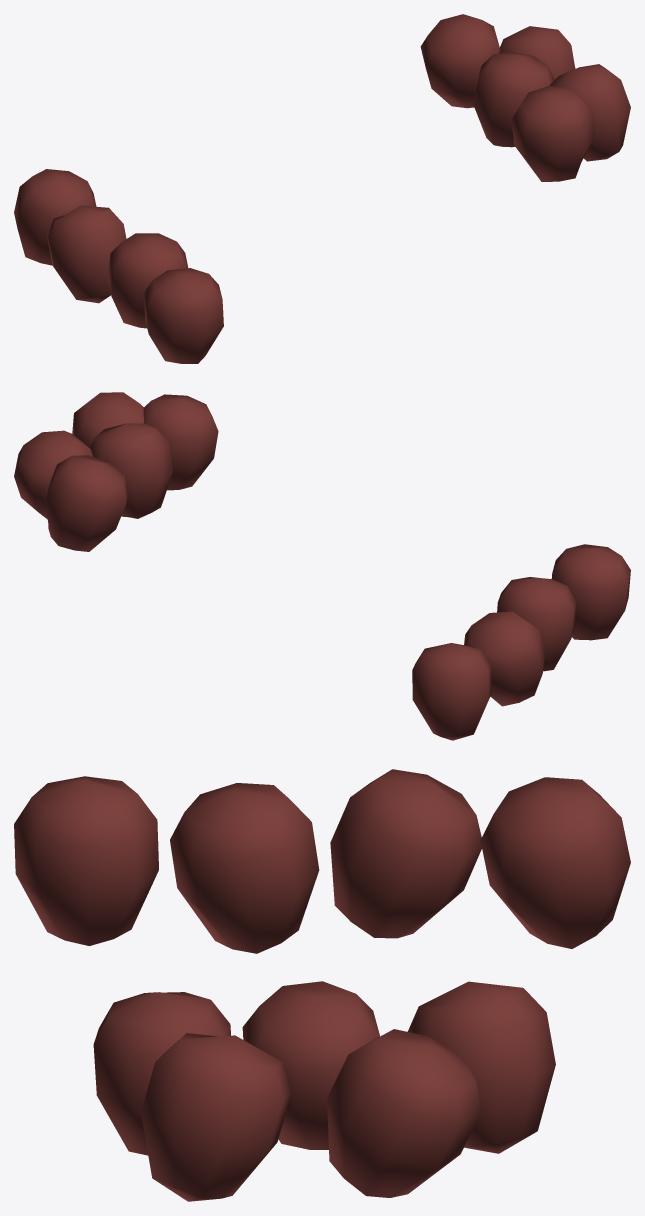
The model's file is Muat Sawit_3_Low Mesh.gltf.
The picture shows the model from 3 angles, top to bottom: view 1: azimuth 30°, elevation 25°; view 2: azimuth 150°, elevation 25°; view 3: azimuth 270°, elevation 25°; orthographic projection. The views are drawn at different scales.
Visible parts, largest first — view 1: Muat Sawit_3_Low Mesh; view 2: Muat Sawit_3_Low Mesh; view 3: Muat Sawit_3_Low Mesh.
Boxes of the visible parts, <box> form: Muat Sawit_3_Low Mesh: <box>14,14,630,363</box>; Muat Sawit_3_Low Mesh: <box>14,392,630,740</box>; Muat Sawit_3_Low Mesh: <box>14,769,630,1201</box>.
Size of the model in its own units: 2.99 by 0.9064 by 1.75.
